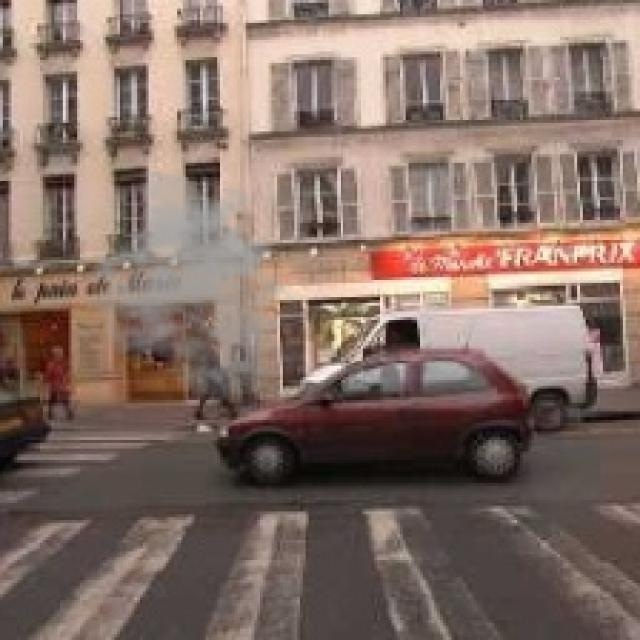Smoke: (80, 168, 312, 400)
